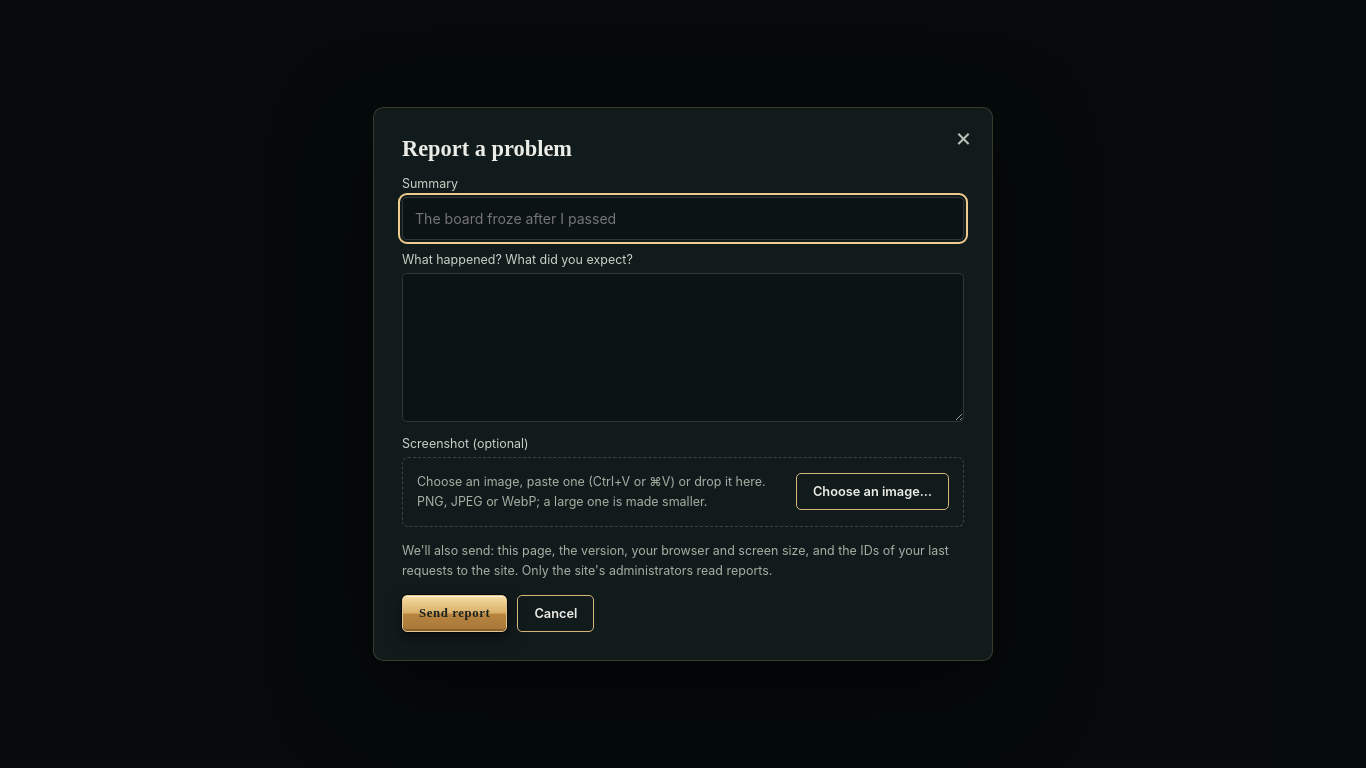
Report a problem › shows the API's refusal, and keeps the report to send again
Type "The board froze" into the field labelled "Summary" at coordinates (683, 219), box [402,197,964,240]
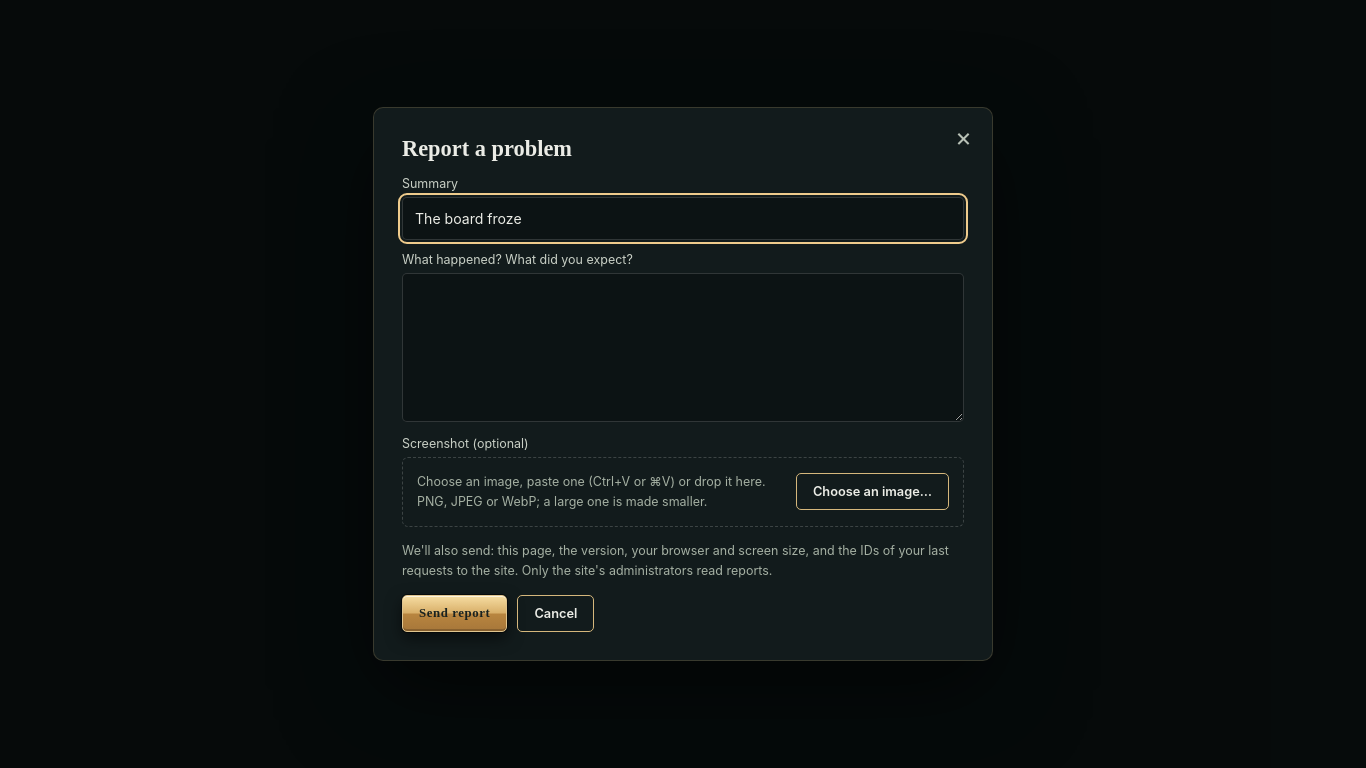
Type "I passed." into the text box labelled "What happened? What did you expect?" at coordinates (683, 348), box [402,273,964,422]
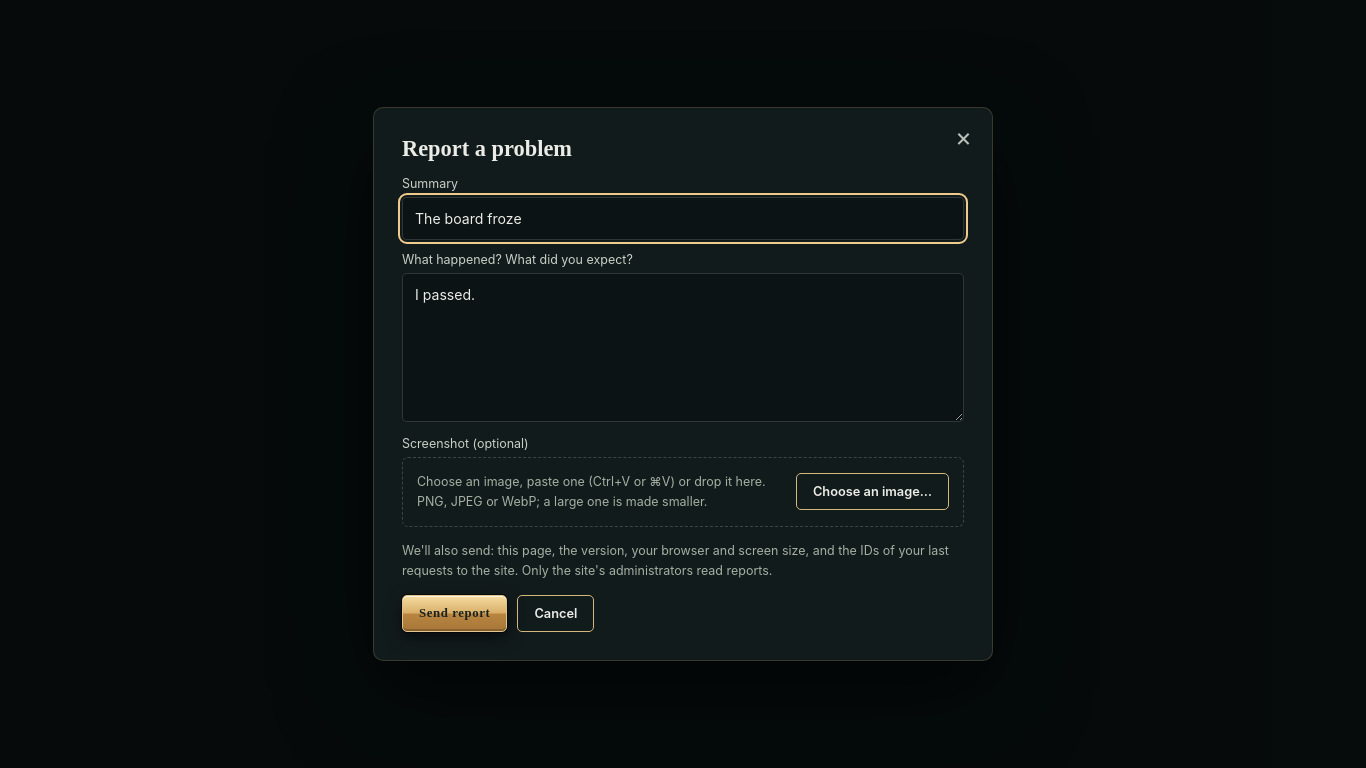
Click the button "Send report" at coordinates (455, 613), box [402,595,507,632]
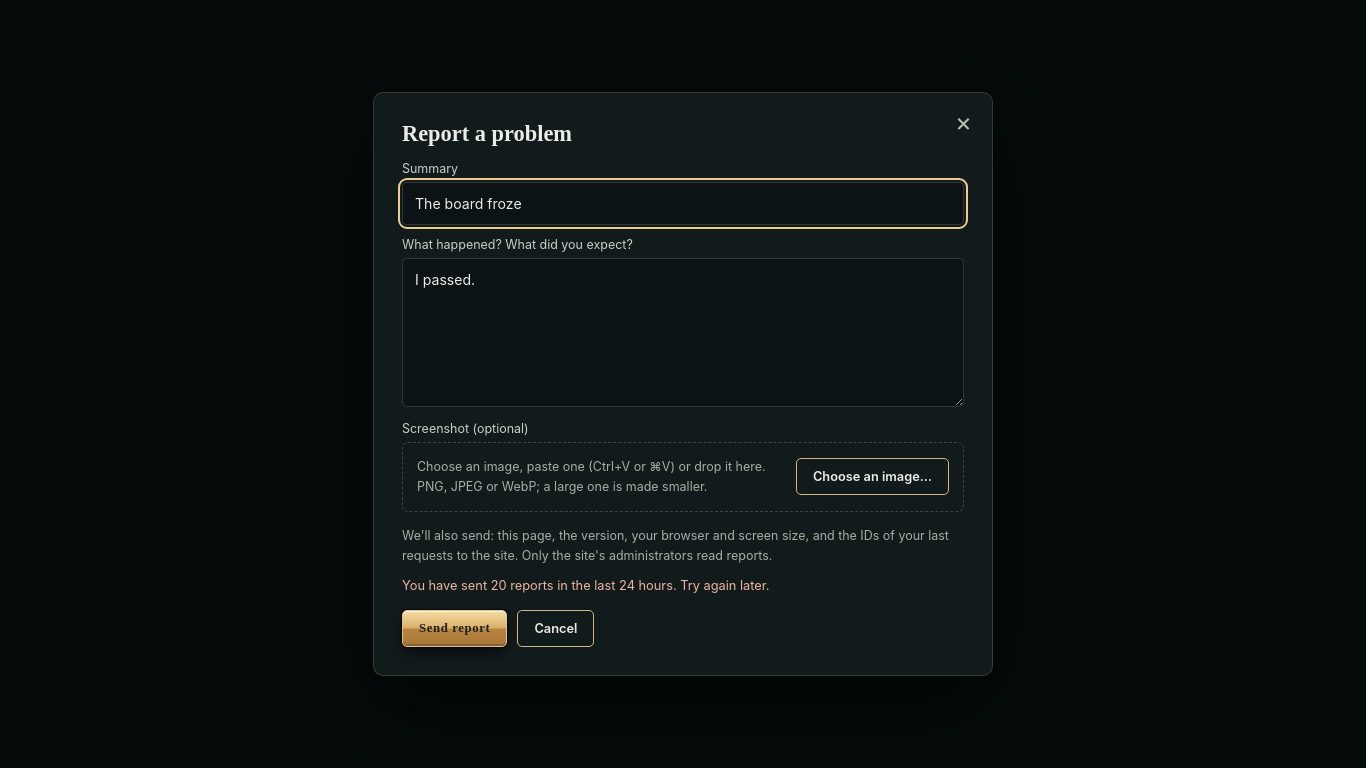
Result: the message shows "You have sent 20 reports in the last 24 hours." at [402,578,770,593]
